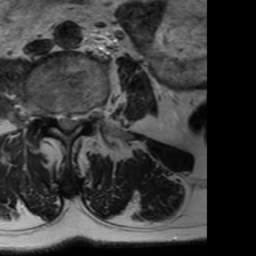CCS_stenosis: (63, 103, 71, 141)
LFS_normal: (79, 102, 90, 128)
LLS_normal: (71, 103, 79, 137)
RFS_stenosis: (44, 98, 53, 130)
RLS_normal: (53, 106, 63, 135)
